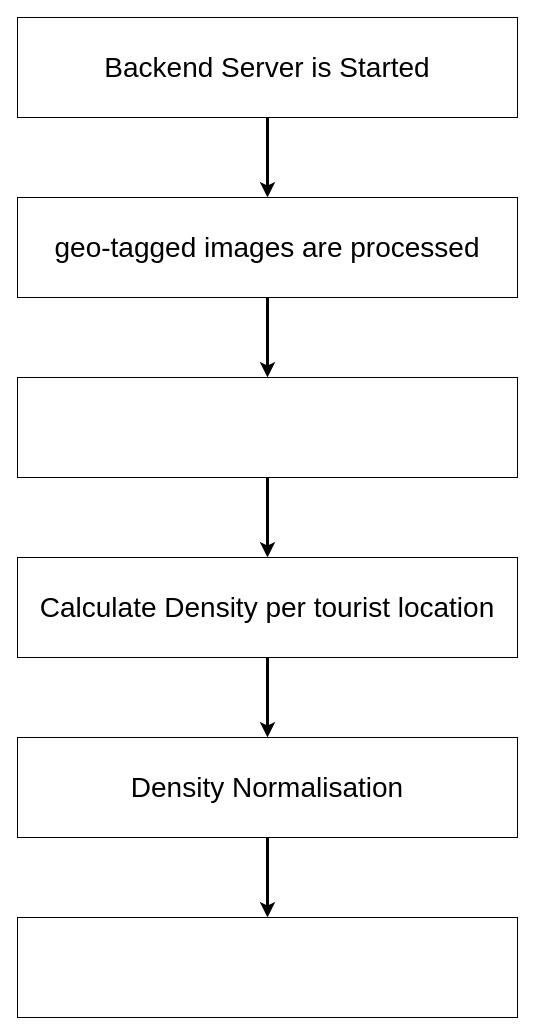
The diagram is 535 pixels wide and 1035 high, and some of its shapes have lost their labels. Here are the shapes that lost their labels. From the top down, the centre of each, then its label:
At point 267,427: "Create JSON Array for co-ordinates".
At point 267,967: "Backend Server is up and ready to serve user requests".
